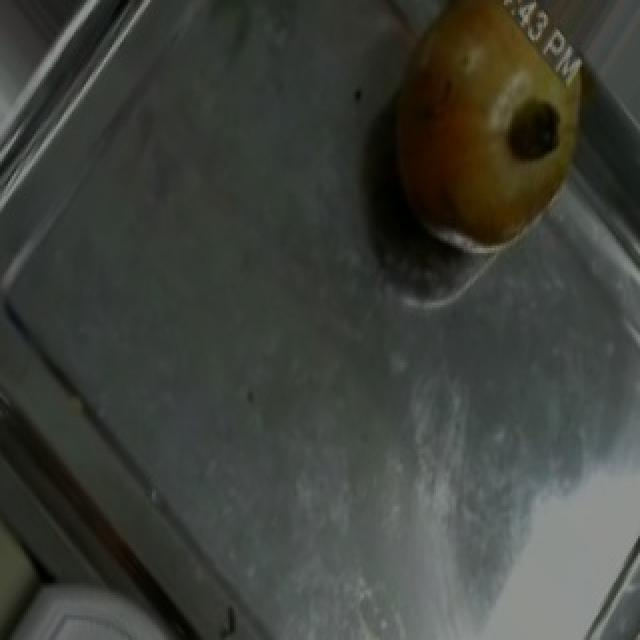fruit: (362, 0, 622, 273)
